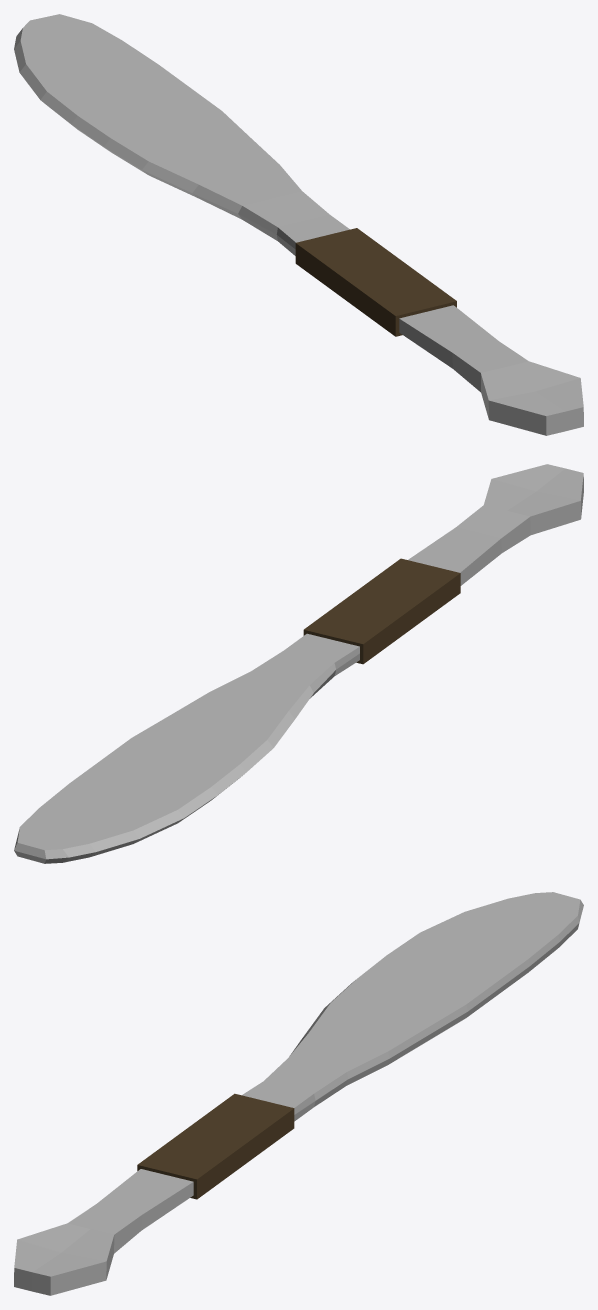
Rendered from Knife.fbx.
3 renders of one model, top to bottom at view 1: azimuth 30°, elevation 25°; view 2: azimuth 150°, elevation 25°; view 3: azimuth 330°, elevation 25°, orthographic. The views are drawn at different scales.
Visible parts, largest first — view 1: Knife; view 2: Knife; view 3: Knife.
Part boxes in pixels (left/top/right/bottom): Knife: left=14, top=14, right=583, bottom=435; Knife: left=14, top=464, right=583, bottom=863; Knife: left=14, top=892, right=583, bottom=1295.
Size of the model in its own units: 93.43 by 15.49 by 717.
